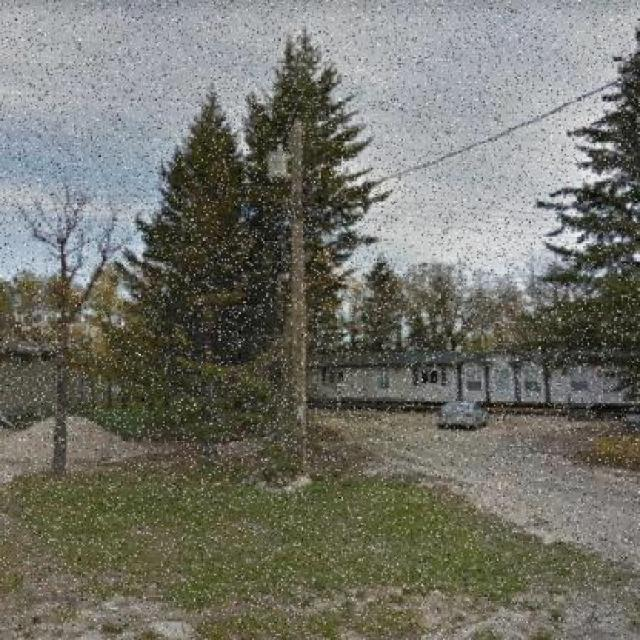pole: (291, 120, 309, 480)
transformer: (265, 143, 289, 183)
wire: (350, 67, 640, 193)
